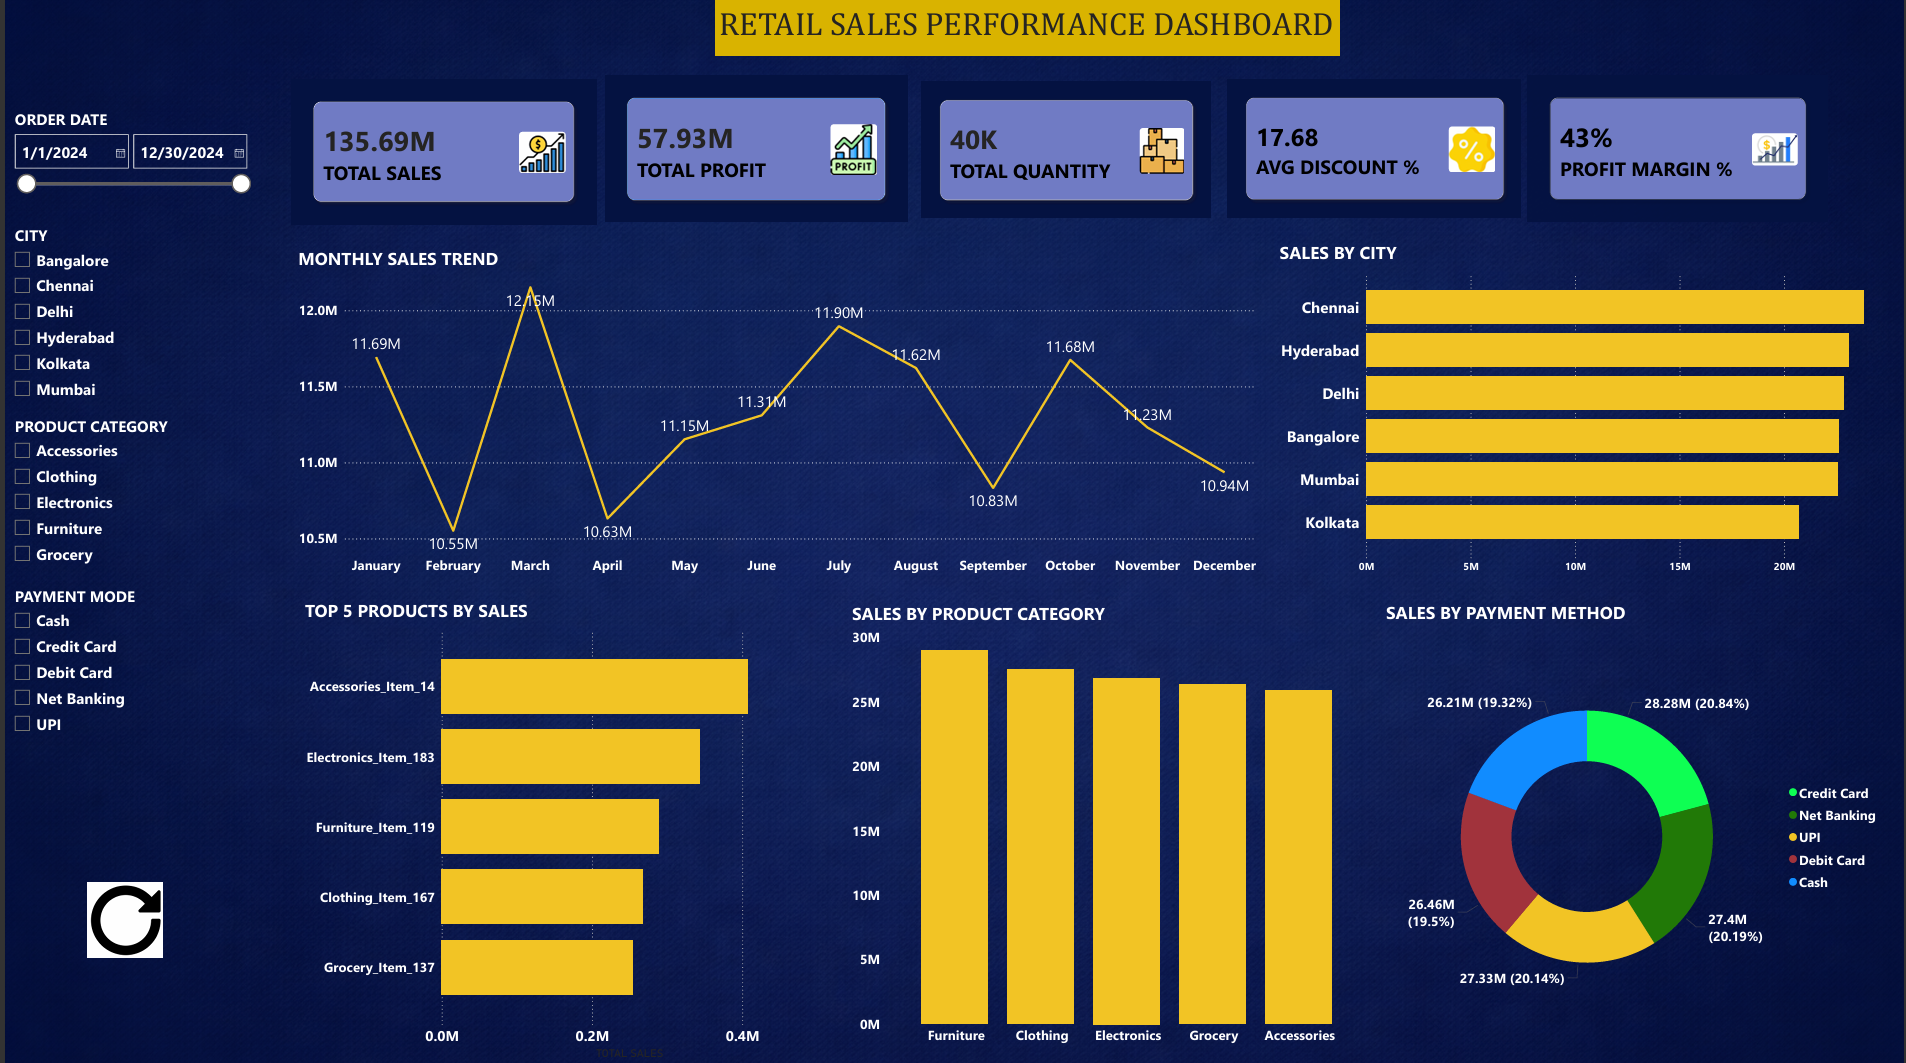

Layout of this report page (visuals, bound fields, positions):
{"tool":"powerbi","page":{"name":"Page 1","canvas":[2500,1400],"ordinal":0},"visuals":[{"type":"cardVisual","fields":{"Data":["Retail_Sales.PROFIT MARGIN %"]},"box":[2005,100,395,192.5],"z":0},{"type":"cardVisual","fields":{"Data":["Retail_Sales.TOTAL DISCOUNT %"]},"box":[1605.5,100.5,397.5,192.5],"z":1000},{"type":"cardVisual","fields":{"Data":["Retail_Sales.TOTAL PROFIT"]},"box":[789.7,100.2,398.4,193.3],"z":2000},{"type":"cardVisual","fields":{"Data":["Retail_Sales.TOTAL QUANTITY"]},"box":[1202.5,102.6,391.8,190.9],"z":3000},{"type":"cardVisual","fields":{"Data":["Retail_Sales.TOTAL SALES"]},"box":[377,105,401.8,190.9],"z":4000},{"type":"lineChart","title":"MONTHLY SALES TREND","fields":{"Category":["Retail_Sales.Order_Date.Variation.Date Hierarchy.Month"],"Y":["Retail_Sales.TOTAL SALES"]},"box":[381.3,325.4,1274,441.4],"z":5000},{"type":"clusteredColumnChart","title":"SALES BY PRODUCT CATEGORY","fields":{"Category":["Retail_Sales.Product_Category"],"Y":["Retail_Sales.TOTAL SALES"]},"box":[1110,791.5,690,593.5],"z":6000},{"type":"clusteredBarChart","title":"TOP 5 PRODUCTS BY SALES","fields":{"Category":["Retail_Sales.Product_Name"],"Y":["Retail_Sales.TOTAL SALES"]},"box":[390,787.5,707.5,612.5],"z":7000},{"type":"barChart","title":"SALES BY CITY","fields":{"Category":["Retail_Sales.City"],"Y":["Retail_Sales.TOTAL SALES"]},"box":[1672.9,316.8,799.3,448.5],"z":8000},{"type":"donutChart","title":"SALES BY PAYMENT METHOD","fields":{"Category":["Retail_Sales.Payment_Mode"],"Y":["Retail_Sales.TOTAL SALES"]},"box":[1812.5,791,665,591.5],"z":9000},{"type":"textbox","box":[935.2,0,821.7,74],"z":10000},{"type":"slicer","fields":{"Values":["Retail_Sales.Payment_Mode"]},"box":[0,765.9,335.4,231.4],"z":11000},{"type":"slicer","fields":{"Values":["Retail_Sales.Product_Category"]},"box":[0,541.6,336.4,220.5],"z":12000},{"type":"slicer","fields":{"Values":["Retail_Sales.City"]},"box":[0,291.1,334,251.9],"z":13000},{"type":"slicer","fields":{"Values":["Retail_Sales.Order_Date"]},"box":[0,138.4,332.1,152.7],"z":14000},{"type":"image","box":[109.3,1161.9,100.2,100.2],"z":15000}]}

Visuals, with their boxes in screenshot pixels (x1, y1, x2, y2), scaled from the page's 2500x1400 canvas onto the 1906x1063 screenshot:
cardVisual - Retail_Sales.PROFIT MARGIN %: 1529/76/1830/222
cardVisual - Retail_Sales.TOTAL DISCOUNT %: 1224/76/1527/222
cardVisual - Retail_Sales.TOTAL PROFIT: 602/76/906/223
cardVisual - Retail_Sales.TOTAL QUANTITY: 917/78/1215/223
cardVisual - Retail_Sales.TOTAL SALES: 287/80/594/225
"MONTHLY SALES TREND" lineChart: 291/247/1262/582
"SALES BY PRODUCT CATEGORY" clusteredColumnChart: 846/601/1372/1052
"TOP 5 PRODUCTS BY SALES" clusteredBarChart: 297/598/837/1062
"SALES BY CITY" barChart: 1275/241/1885/581
"SALES BY PAYMENT METHOD" donutChart: 1382/601/1889/1050
textbox: 713/0/1339/56
slicer - Retail_Sales.Payment_Mode: 0/582/256/757
slicer - Retail_Sales.Product_Category: 0/411/256/579
slicer - Retail_Sales.City: 0/221/255/412
slicer - Retail_Sales.Order_Date: 0/105/253/221
image: 83/882/160/958
